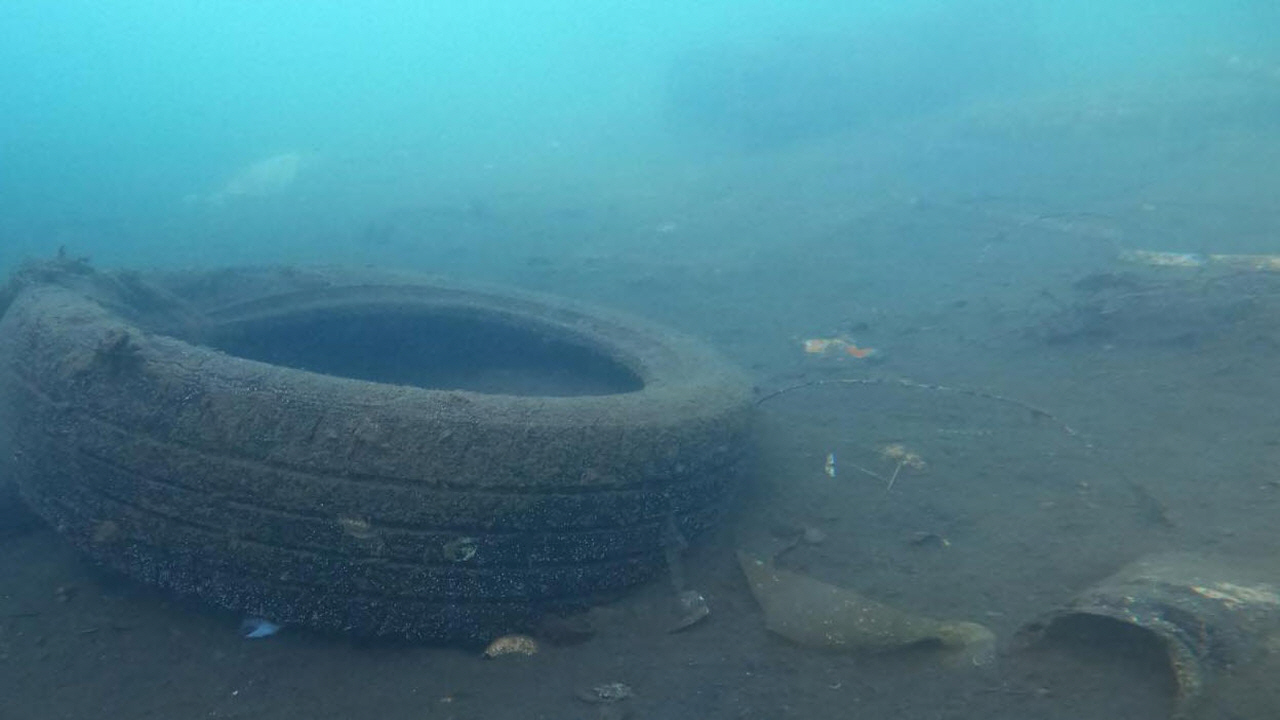tire: (0, 262, 755, 638)
